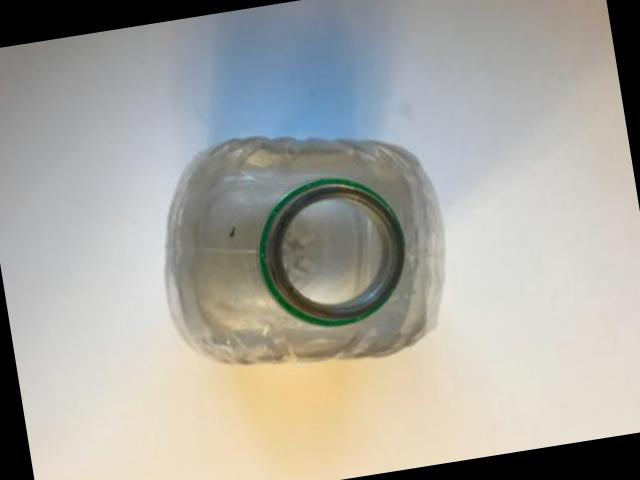plastic: (168, 135, 445, 361)
